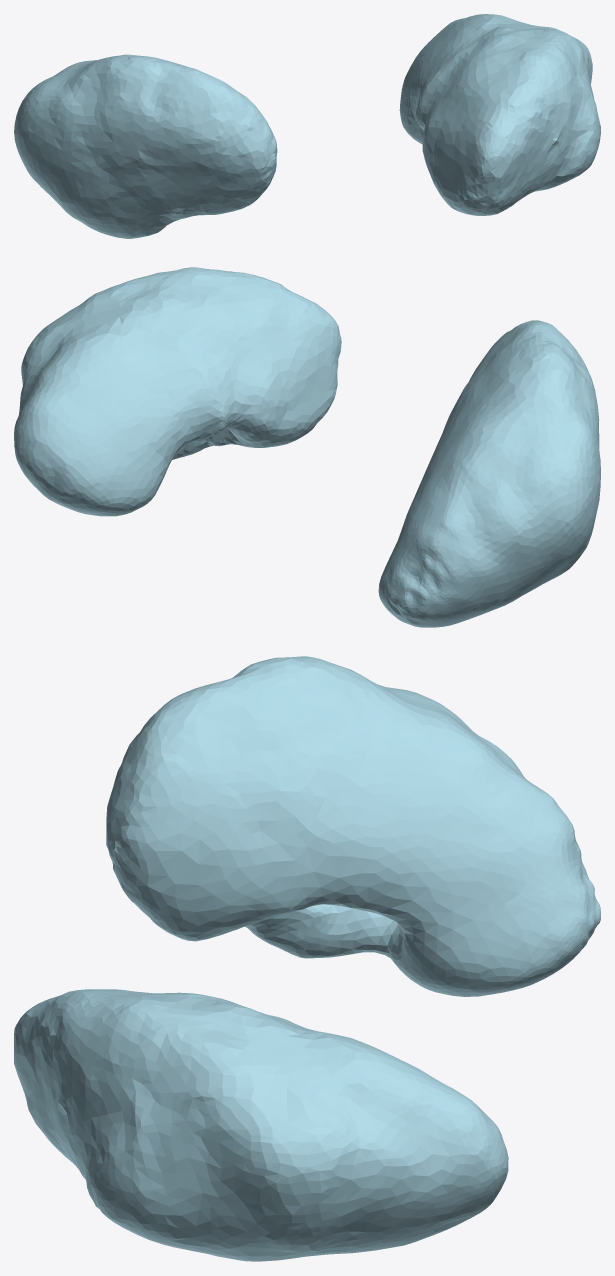
File: kidneys.obj
3 renders of one model, top to bottom at view 1: azimuth 30°, elevation 25°; view 2: azimuth 150°, elevation 25°; view 3: azimuth 270°, elevation 25°, orthographic. The views are drawn at different scales.
Visible parts, largest first — view 1: grp1; view 2: grp1; view 3: grp1.
Boxes of the visible parts, bbox=[...] form: grp1: bbox=[14, 14, 600, 238]; grp1: bbox=[14, 267, 600, 627]; grp1: bbox=[14, 656, 600, 1261].
Bounding box in the file's own units: 179 × 65.23 × 111.
